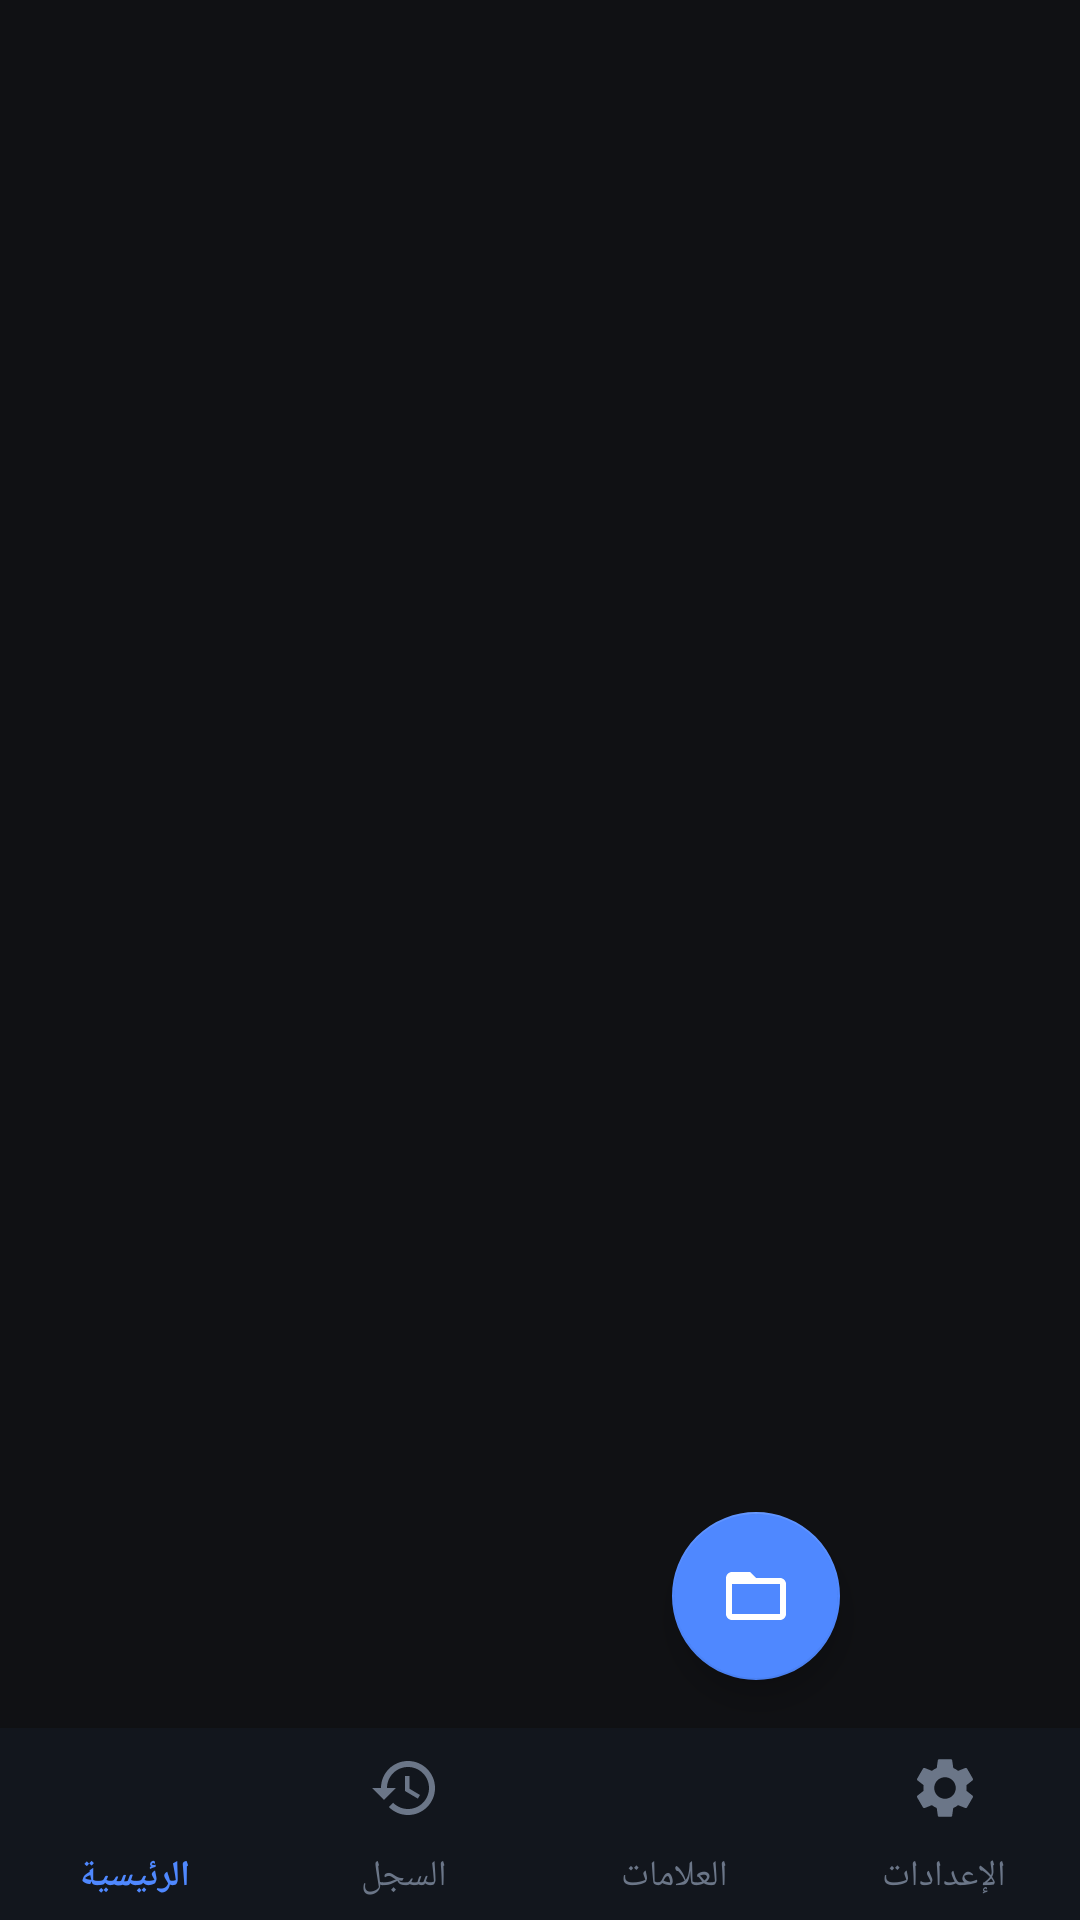

Screen size 1080px×1920px. Icon name, then its center in pixels as point (x, y):
فتح ملف: point (756, 1596)
